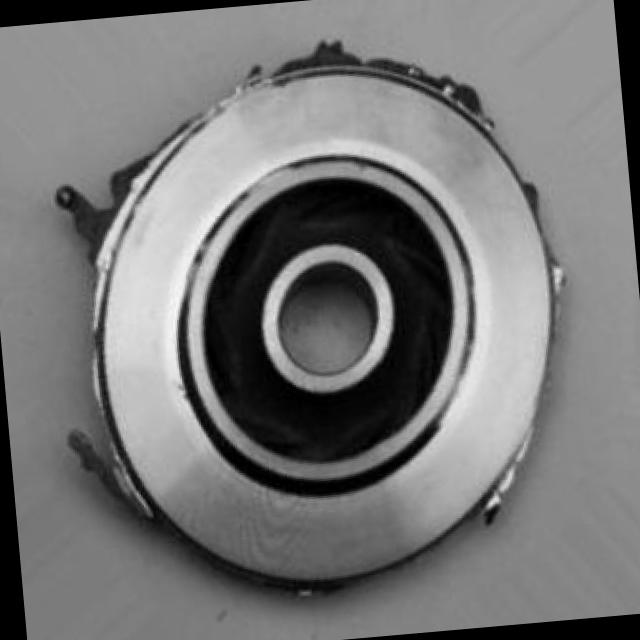Defect: (58, 424, 136, 502), (44, 180, 122, 254), (404, 46, 468, 109)
